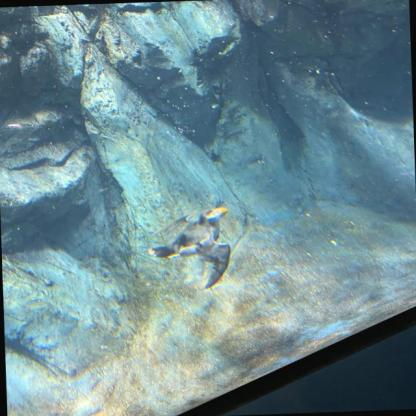fish: (107, 63, 175, 98)
puffin: (144, 201, 241, 290)
